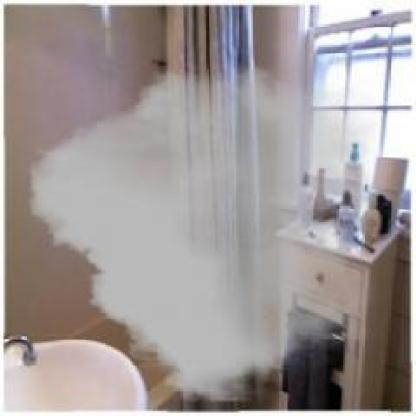Smoke: (29, 65, 378, 401)
